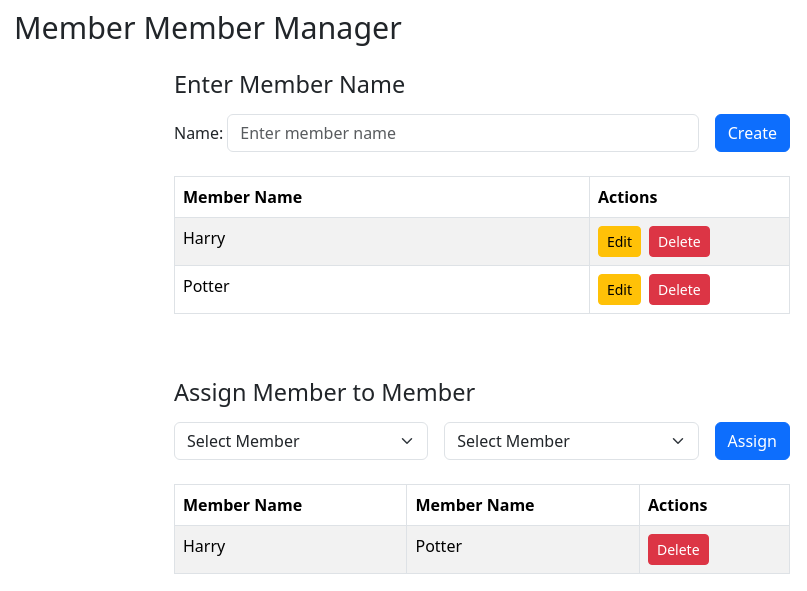
MemberMemberManager Component › remove a member and an assignment automatically
Click the 2nd button "Delete" at (679,289), box [649, 274, 710, 305]
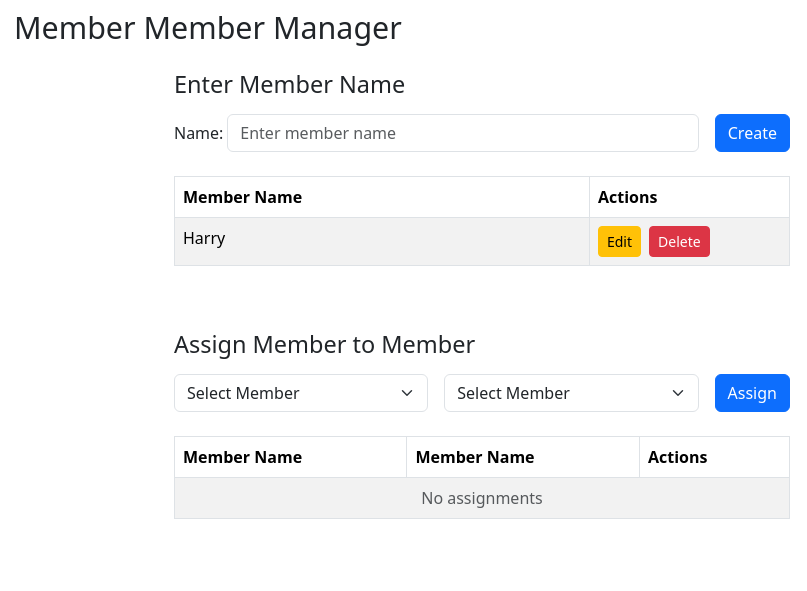
Expected: the text "Potter" is gone
